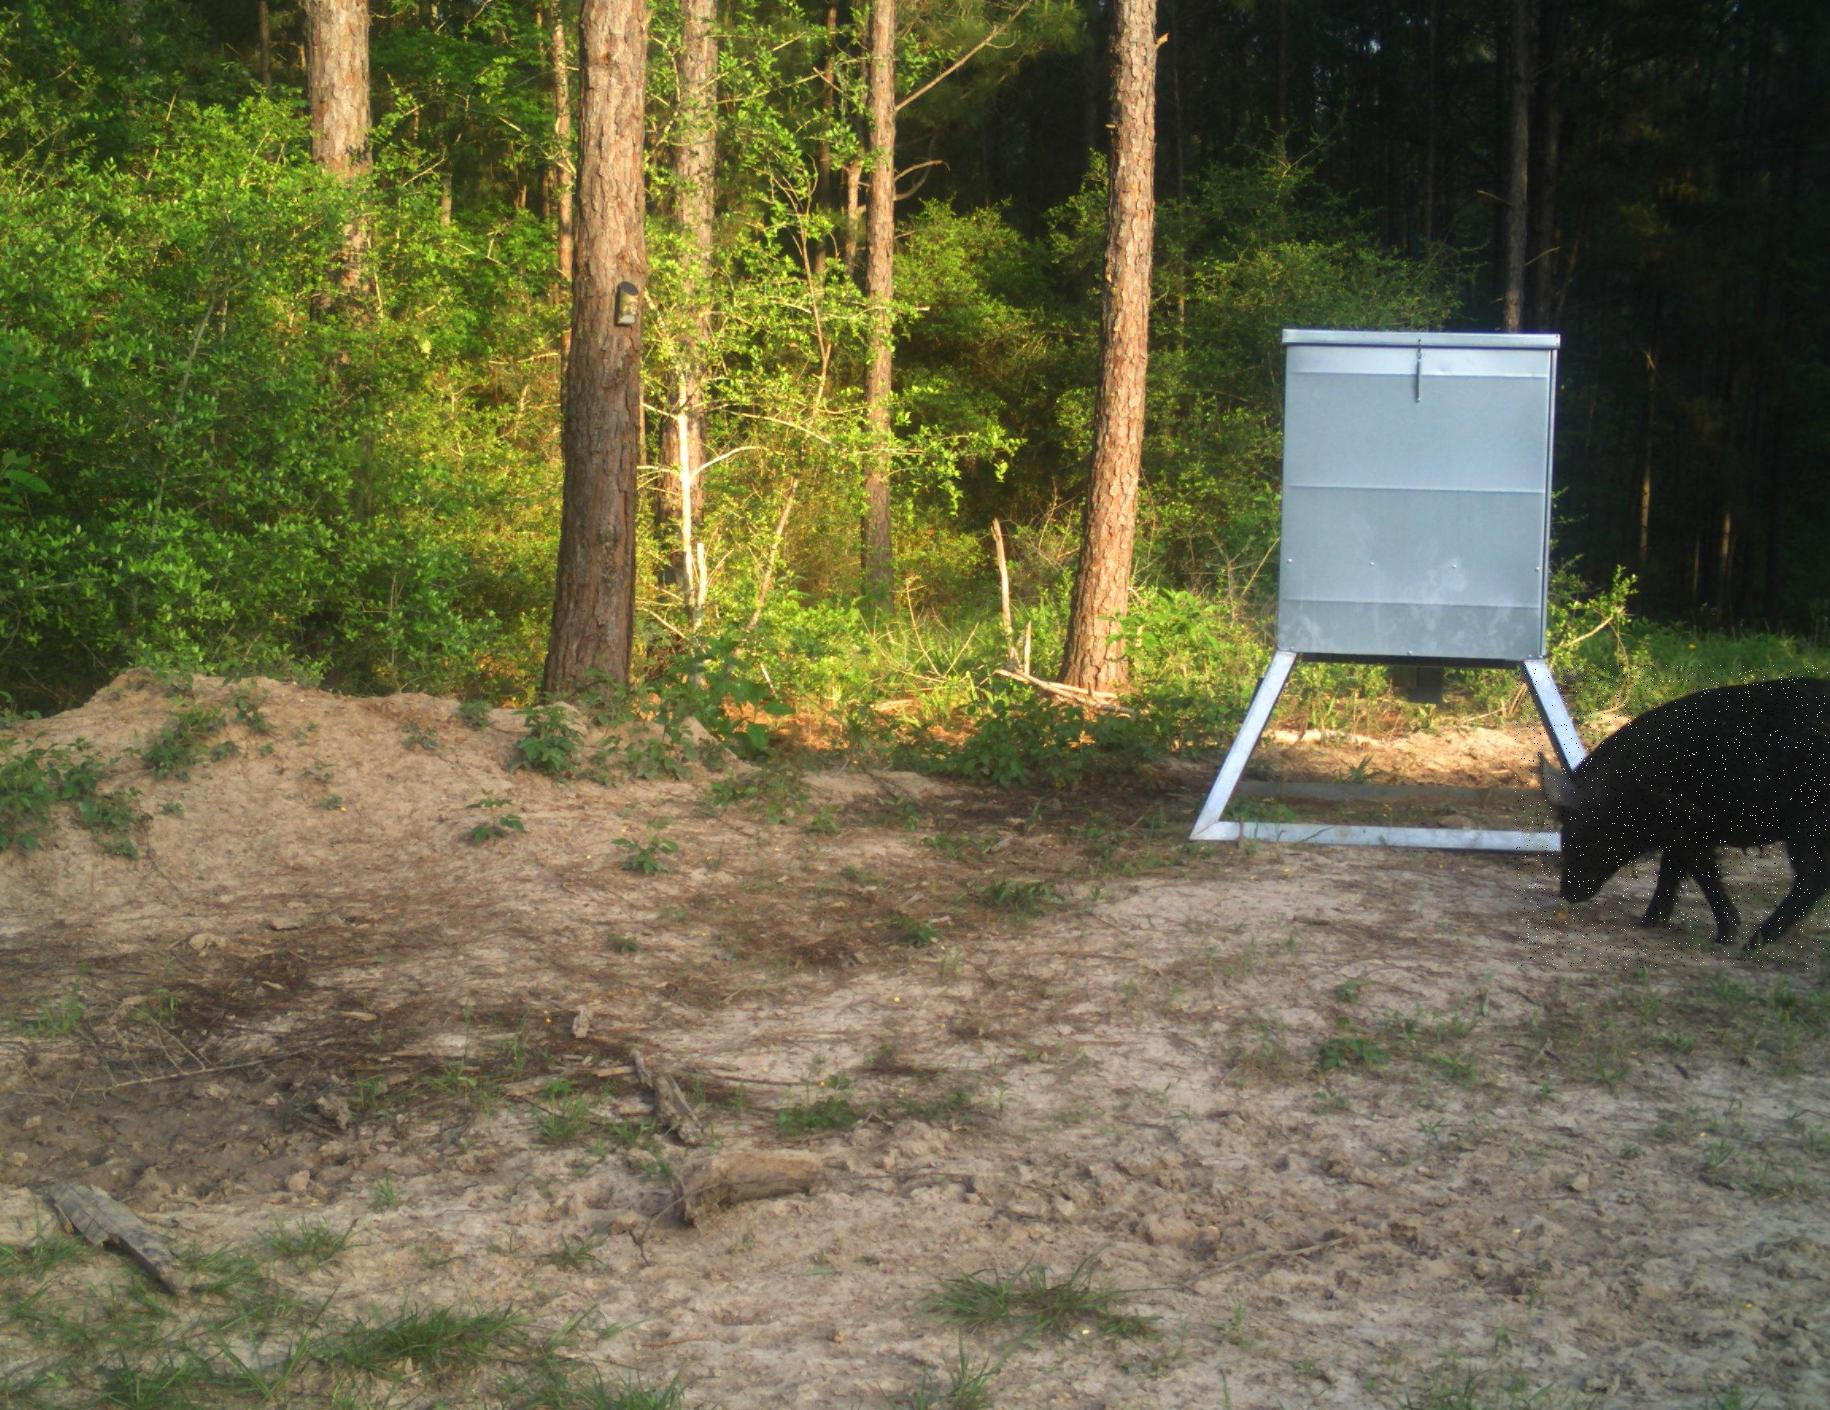Hog: (1515, 665, 1830, 969)
